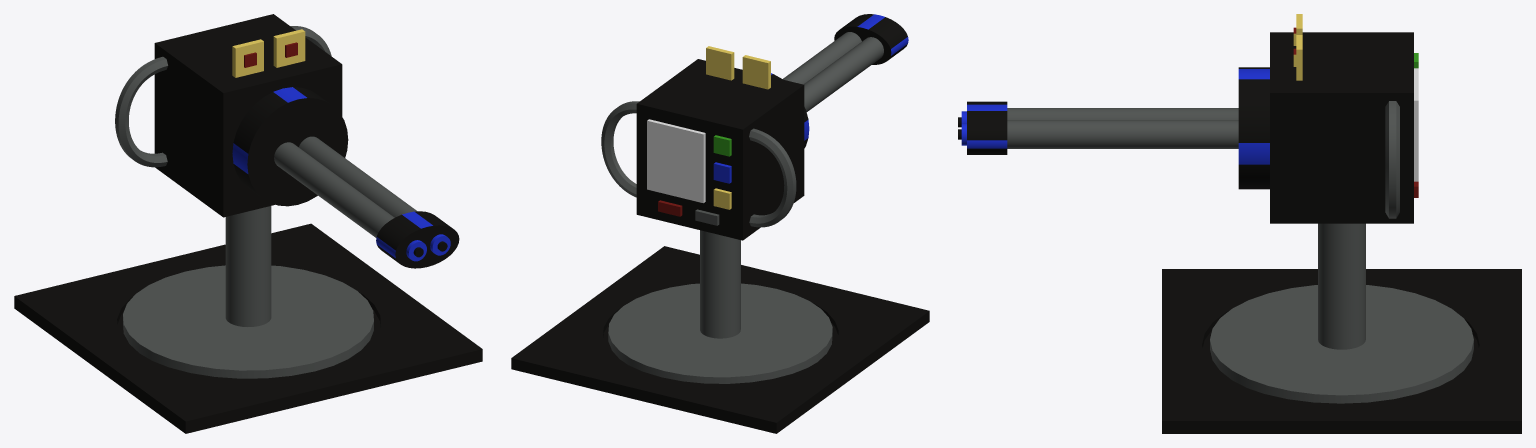
The model's file is StandAndShootEnemy.fbx.
3 renders of one model, left to right at view 1: azimuth 30°, elevation 25°; view 2: azimuth 150°, elevation 25°; view 3: azimuth 270°, elevation 25°, orthographic. The views are drawn at different scales.
Visible parts, largest first — view 1: Control Box, Base; view 2: Control Box, Base; view 3: Control Box, Base.
Part boxes in pixels (x1,y1,x2,y2): Control Box: [115, 14, 459, 378]; Base: [14, 223, 482, 433]; Control Box: [601, 14, 908, 383]; Base: [511, 246, 929, 433]; Control Box: [958, 14, 1473, 403]; Base: [1162, 269, 1521, 433].
Size of the model in its own units: 100 by 100 by 157.
